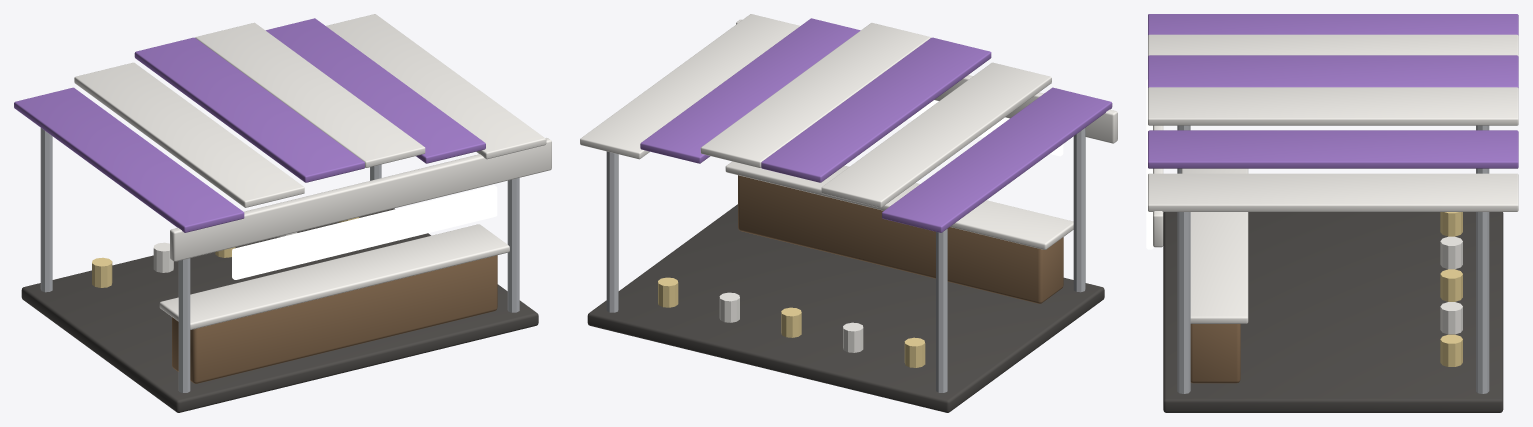
File: tent_merch.glb
3 views of the same model, side by side, from view 1: azimuth 30°, elevation 25°; view 2: azimuth 150°, elevation 25°; view 3: azimuth 270°, elevation 25° (orthographic). The views are drawn at different scales.
Parts seen in each view (by area): view 1: tent_merch; view 2: tent_merch; view 3: tent_merch.
Part boxes in pixels (bbox=[...]): tent_merch: bbox=[14, 14, 551, 412]; tent_merch: bbox=[580, 14, 1117, 412]; tent_merch: bbox=[1146, 14, 1518, 412].
Bounding box in the file's own units: 92 × 49.6 × 72.3.
